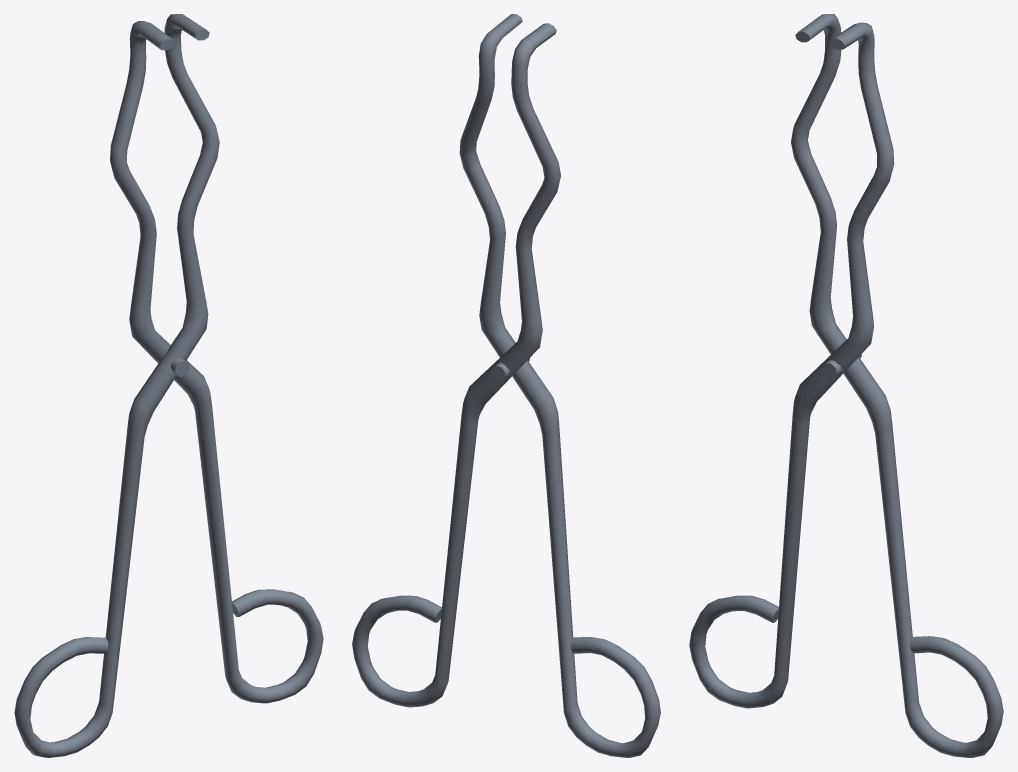
Rendered from heating_equipment_forceps.fbx.
3 views of the same model, side by side, from view 1: azimuth 30°, elevation 25°; view 2: azimuth 150°, elevation 25°; view 3: azimuth 330°, elevation 25° (orthographic).
Parts seen in each view (by area): view 1: heating_equipment_forceps; view 2: heating_equipment_forceps; view 3: heating_equipment_forceps.
Boxes of the visible parts, box(x1,y1,x2,y2) form: heating_equipment_forceps: box(14, 14, 323, 757); heating_equipment_forceps: box(352, 14, 660, 757); heating_equipment_forceps: box(689, 14, 1003, 757).
Bounding box in the file's own units: 1726 × 3790 × 329.
1 material, 1 textured.
